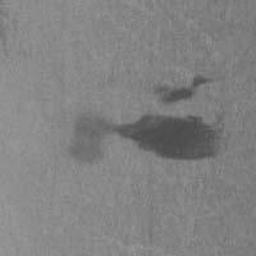Oil spot: (63, 102, 228, 166), (152, 73, 216, 106)
